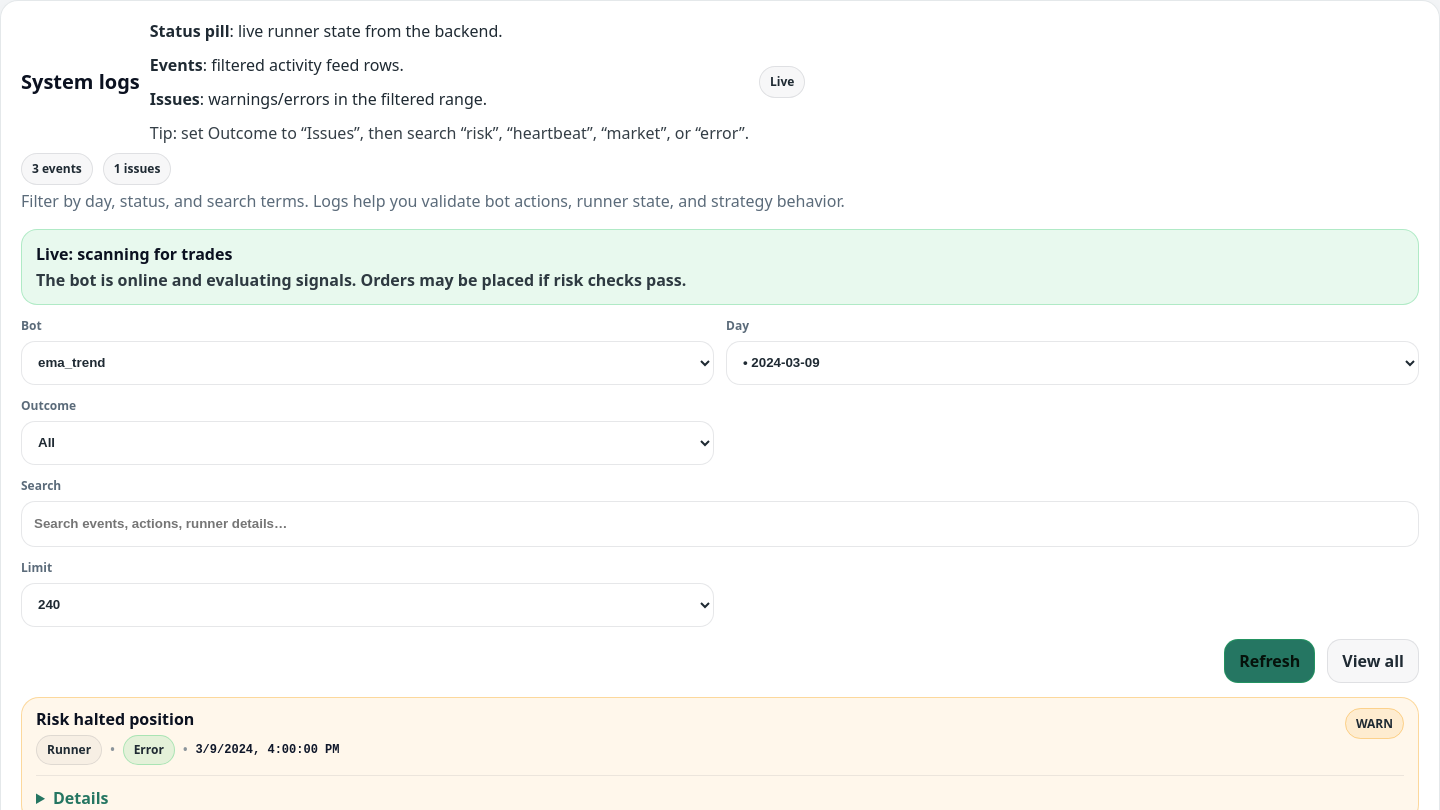
Test: BotLogsCard › filters logs by outcome and search, then opens the modal
Expected: the text "Risk halted position" is shown, [36, 708, 194, 730]
Select "Issues" in the dropdown labelled "Outcome" at (368, 443), box [21, 421, 714, 465]
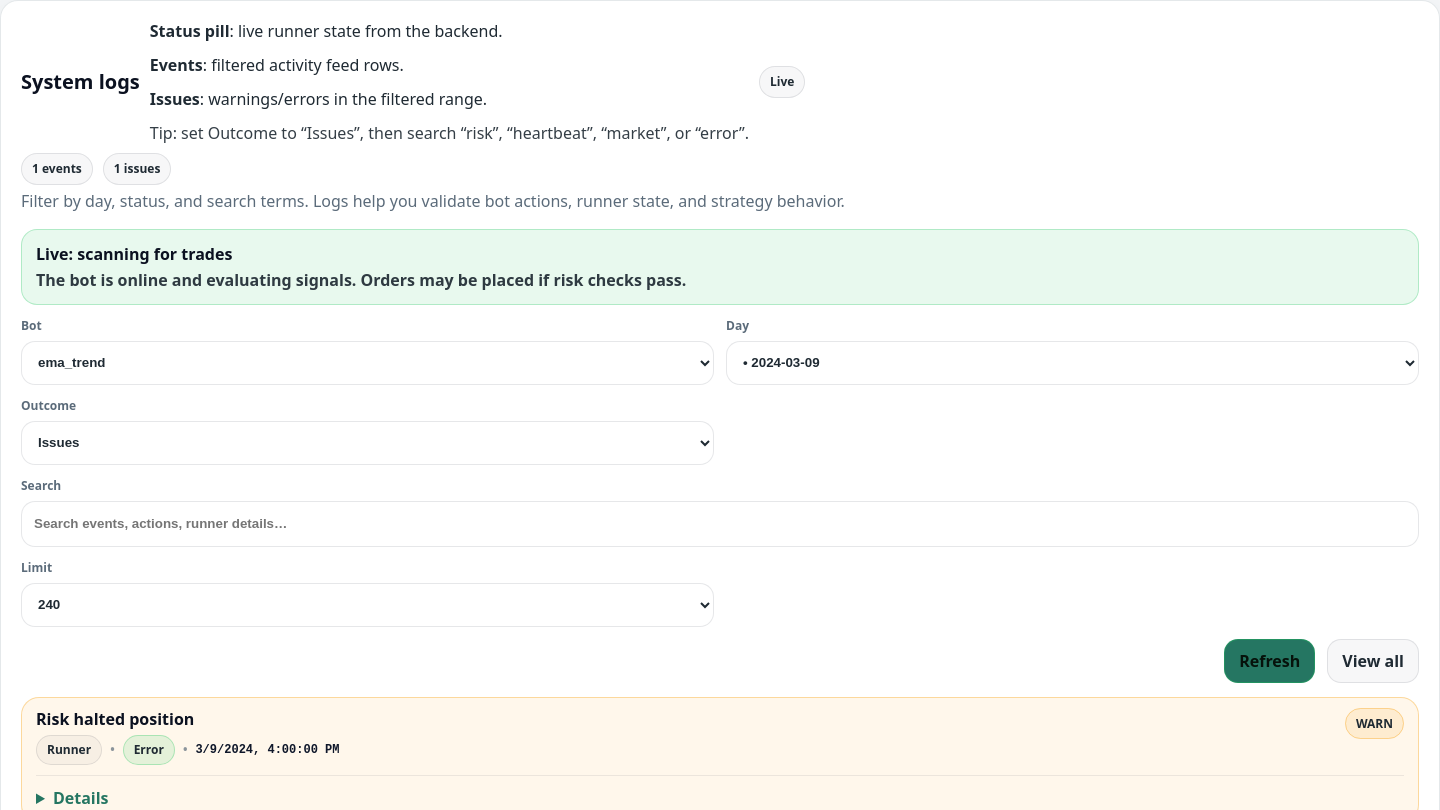
Type "risk" into the field with placeholder "Search events, actions, runner details…".
click(720, 524); type("risk")  # box [21, 501, 1419, 547]
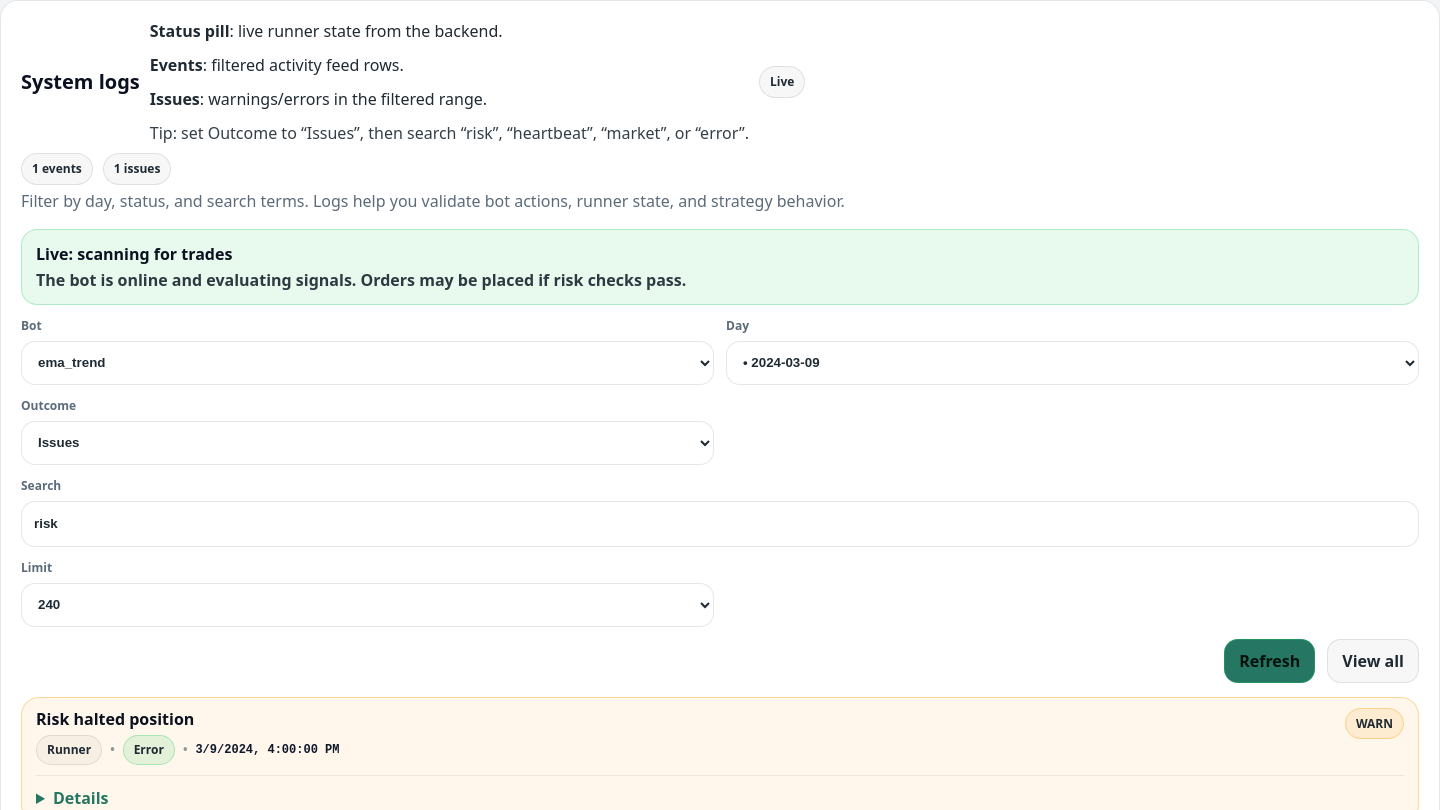
Expected: the text "Risk halted position" is shown, [36, 708, 194, 730]
Click the button "View all".
click(1373, 661)  # box [1327, 639, 1419, 683]
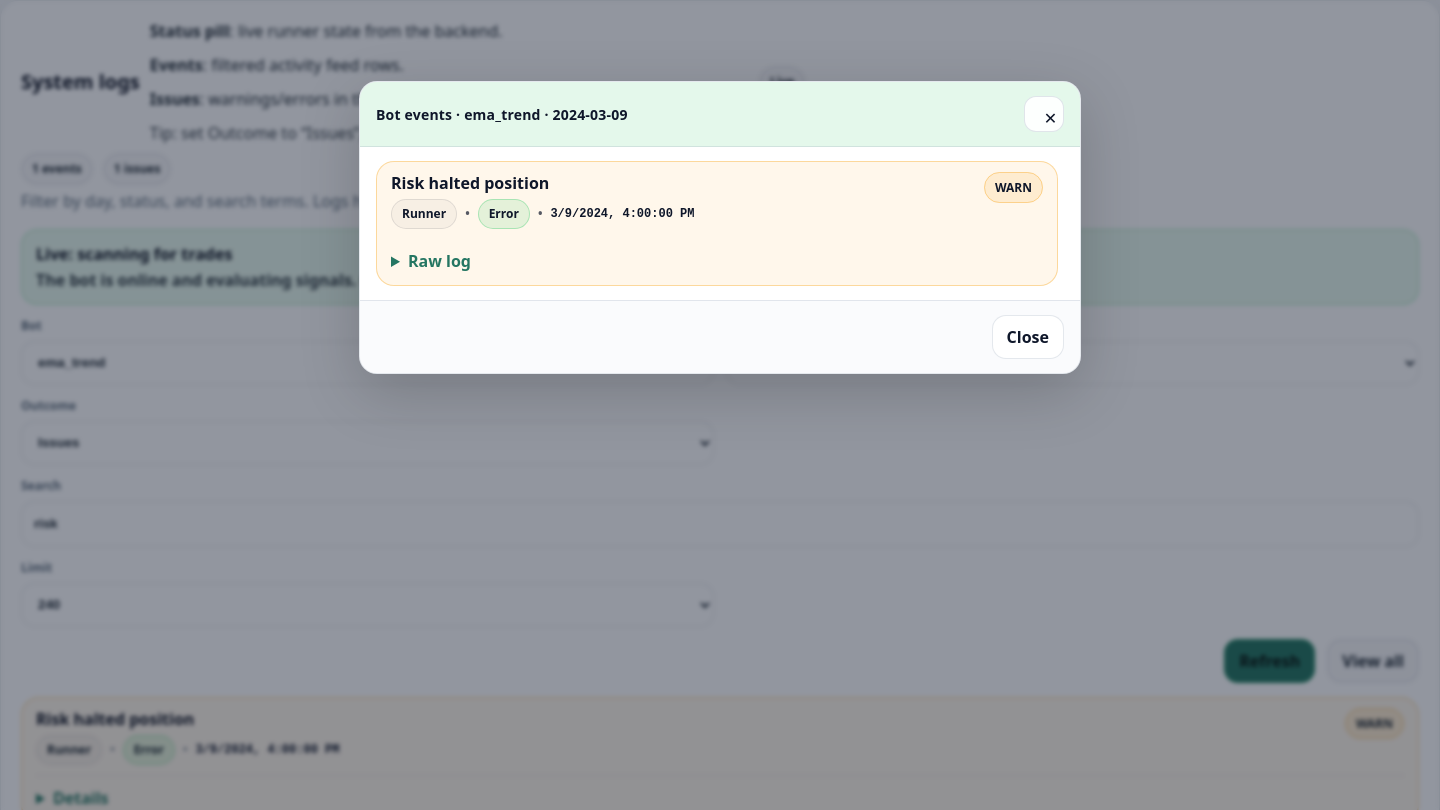
Now the dialog is shown
Now the text "Bot events · ema_trend · 2024-03-09" is shown, box [376, 104, 628, 124]
Now the heading "Raw log" is shown, box [408, 250, 471, 272]
